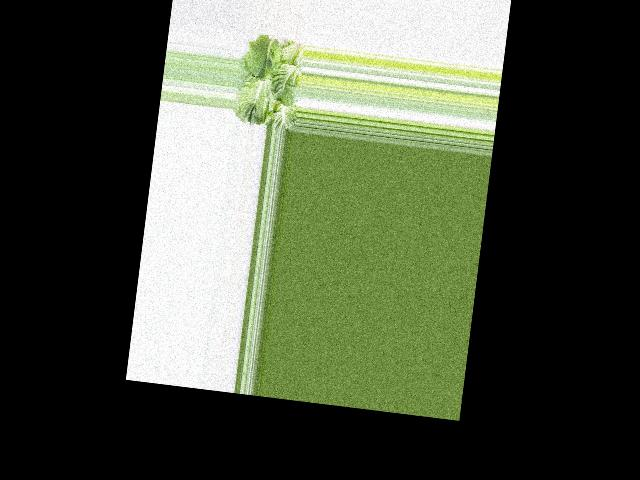lettuce: (234, 34, 306, 130)
